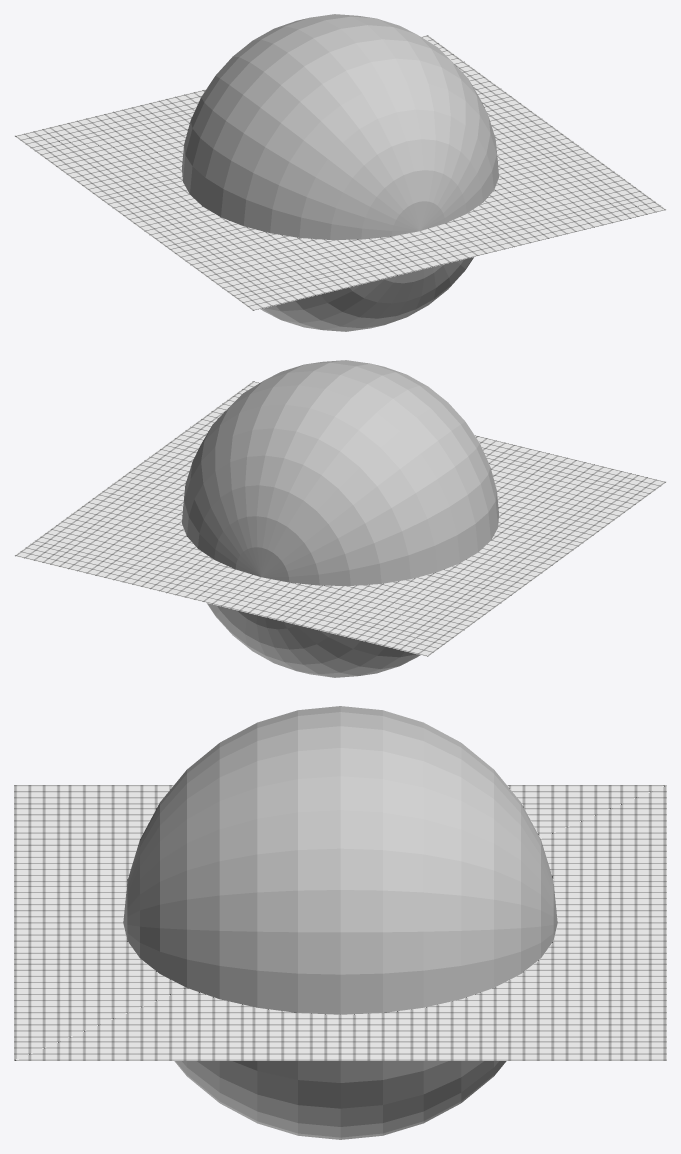
Rendered from NewStage_Maya.fbx.
3 renders of one model, top to bottom at view 1: azimuth 30°, elevation 25°; view 2: azimuth 150°, elevation 25°; view 3: azimuth 270°, elevation 25°, orthographic. The views are drawn at different scales.
Visible parts, largest first — view 1: 球; view 2: 球; view 3: 球.
Boxes of the visible parts, x1=… form: 球: x1=14, y1=14, x2=666, y2=331; 球: x1=14, y1=360, x2=666, y2=677; 球: x1=14, y1=706, x2=666, y2=1139.
Bounding box in the file's own units: 1683 × 1120 × 1683.
